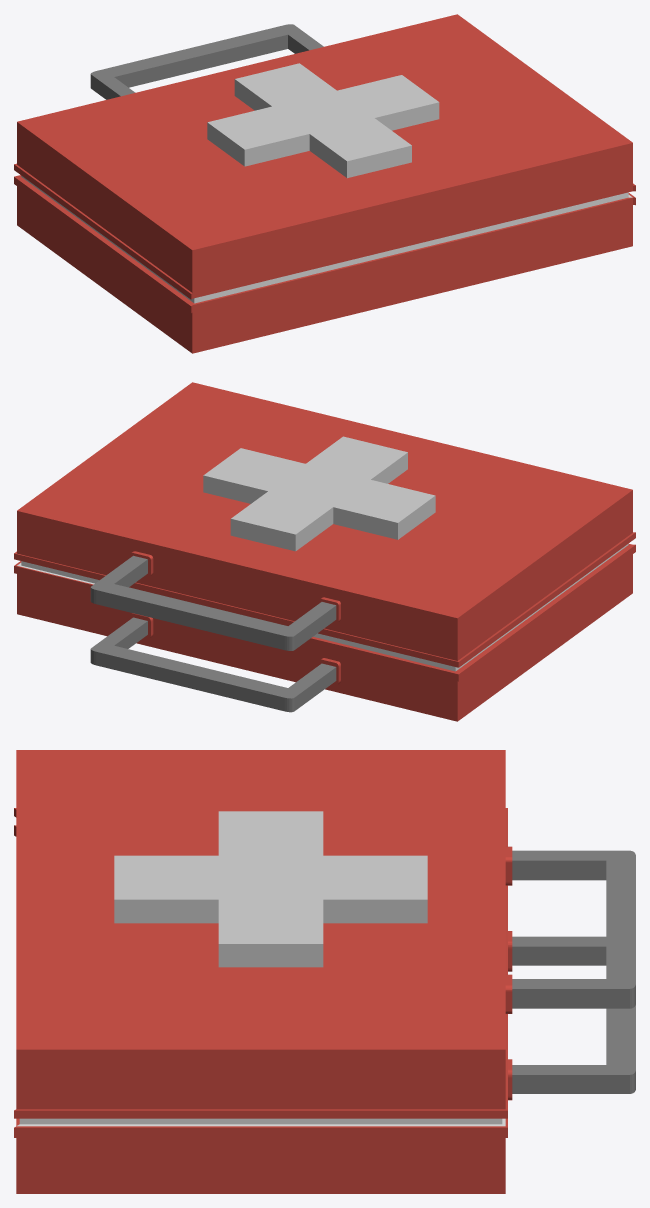
File: 01. Medical Kit.fbx
3 views of the same model, one above another, from view 1: azimuth 30°, elevation 25°; view 2: azimuth 150°, elevation 25°; view 3: azimuth 270°, elevation 25° (orthographic). The views are drawn at different scales.
Parts seen in each view (by area): view 1: Plane, Cube; view 2: Plane, Cube; view 3: Plane, Cube.
Part boxes in pixels (x1,y1,x2,y2): Plane: (14,14,635,353); Cube: (207,63,439,178); Plane: (14,382,635,721); Cube: (203,436,435,551); Plane: (14,750,635,1193); Cube: (114,811,427,967).
Size of the model in its own units: 292 by 83.28 by 254.
